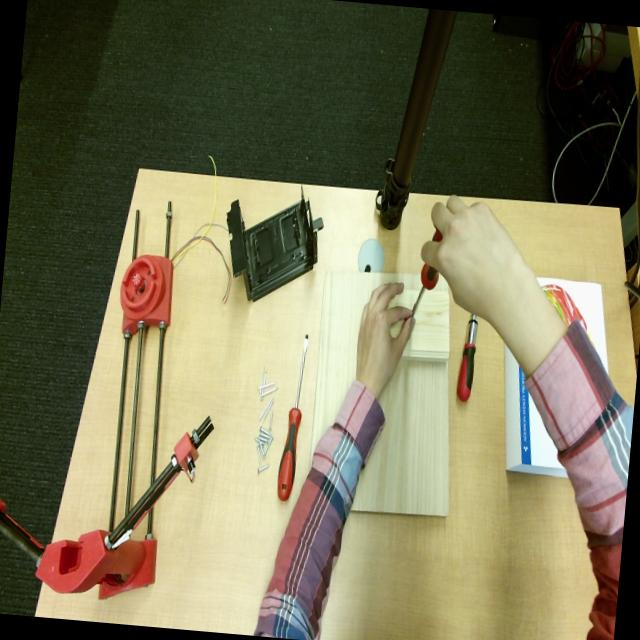screwdriver: (277, 335, 308, 500), (457, 316, 478, 402), (411, 264, 438, 317), (432, 230, 442, 241)
